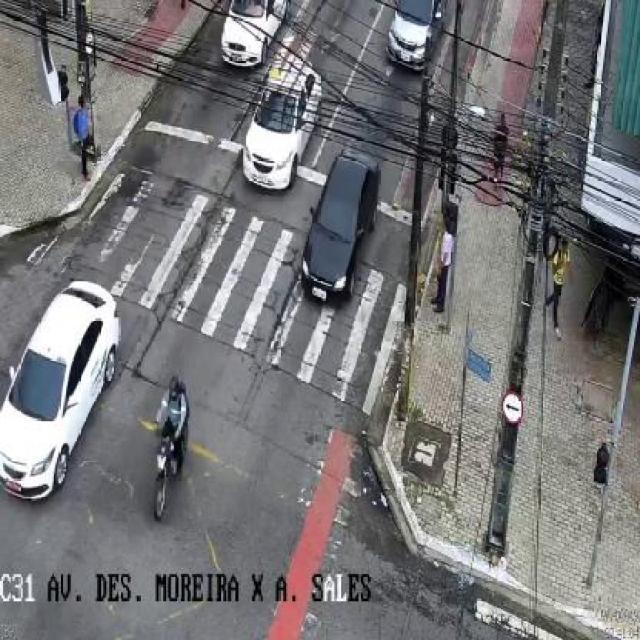Car: (0, 284, 119, 498), (299, 148, 388, 308), (242, 56, 321, 190), (220, 1, 292, 68), (385, 1, 444, 71)
Cycle: (151, 421, 185, 519)
